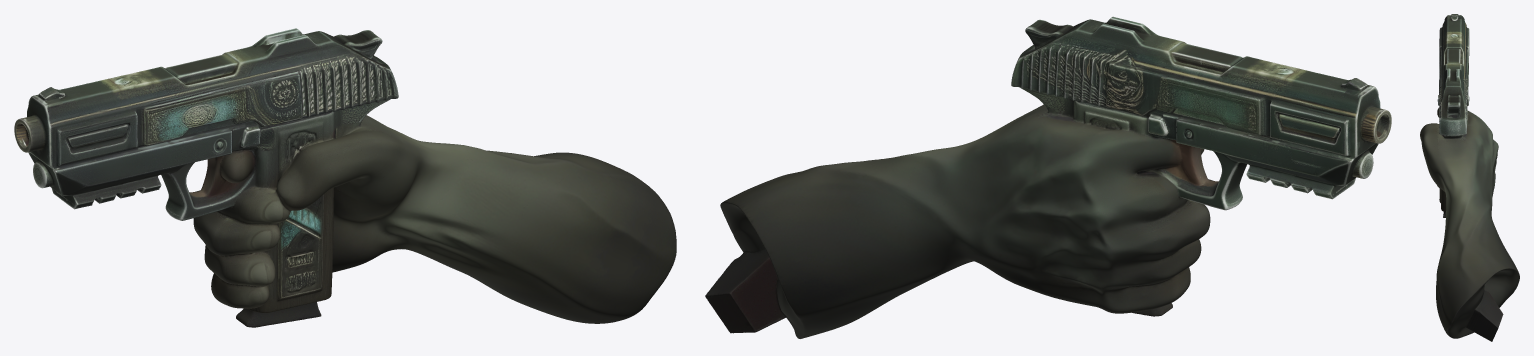
The model's file is hand_with_pistol.glb.
3 renders of one model, left to right at view 1: azimuth 30°, elevation 25°; view 2: azimuth 150°, elevation 25°; view 3: azimuth 270°, elevation 25°, orthographic. The views are drawn at different scales.
Visible parts, largest first — view 1: Mesh_0; view 2: Mesh_0; view 3: Mesh_0.
Part boxes in pixels (bbox=[...]): Mesh_0: bbox=[14, 28, 676, 327]; Mesh_0: bbox=[705, 16, 1391, 338]; Mesh_0: bbox=[1420, 14, 1519, 341].
Bounding box in the file's own units: 1.9 × 1.04 × 0.502.
Materials: 1 (1 with a texture image).
